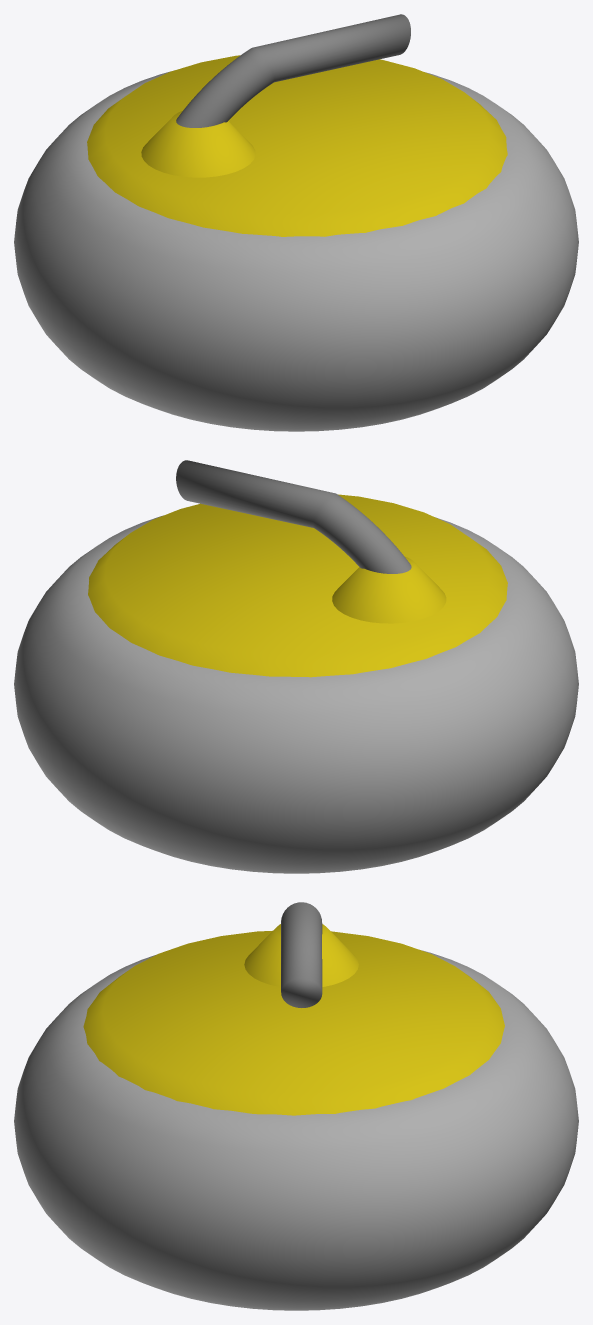
Rendered from curling_stone_yellow.dae.
3 views of the same model, one above another, from view 1: azimuth 30°, elevation 25°; view 2: azimuth 150°, elevation 25°; view 3: azimuth 270°, elevation 25° (orthographic).
Visible parts, largest first — view 1: Pierre; view 2: Pierre; view 3: Pierre.
Boxes of the visible parts, box(x1,y1,x2,y2) form: Pierre: box(14, 14, 578, 431); Pierre: box(14, 460, 578, 873); Pierre: box(14, 902, 578, 1310).
Bounding box in the file's own units: 9 × 9 × 5.56.
